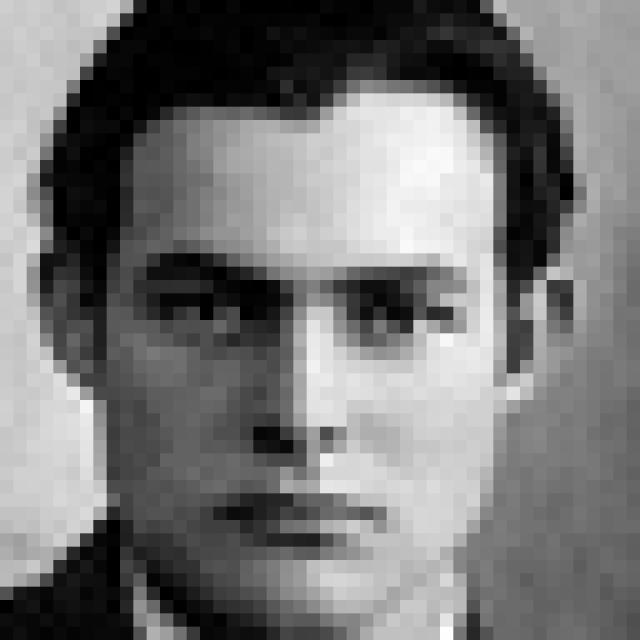neutral: (144, 246, 475, 564)
